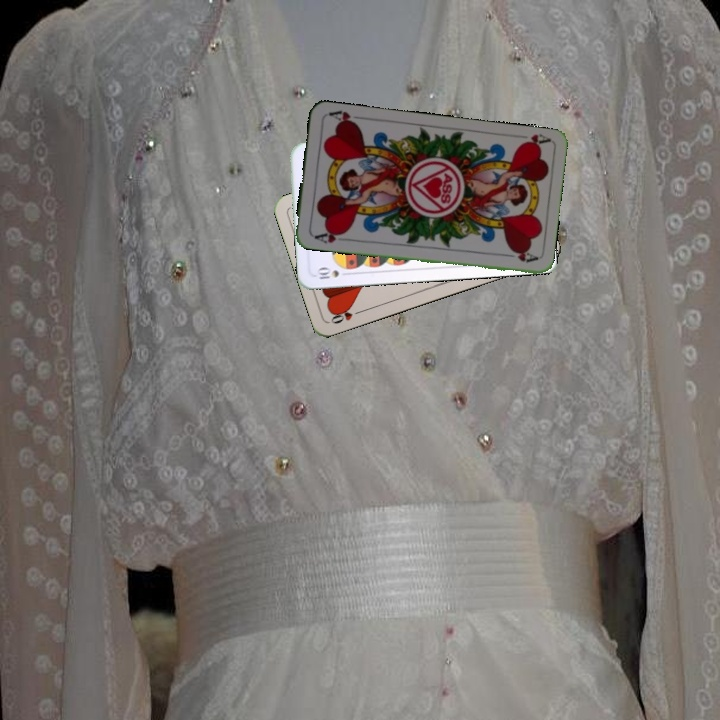HA: (511, 130, 552, 150), (311, 226, 347, 246)
HO: (327, 304, 366, 326)
S10: (313, 264, 352, 282)
